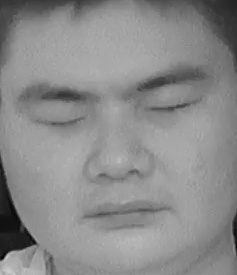blink: (151, 91, 202, 127), (37, 104, 90, 138)
mouth: (78, 189, 169, 237)
